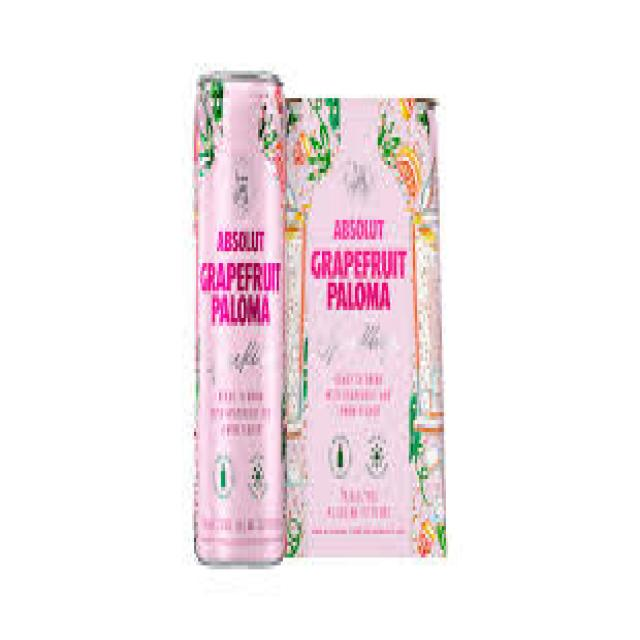Cans: (186, 59, 297, 573)
